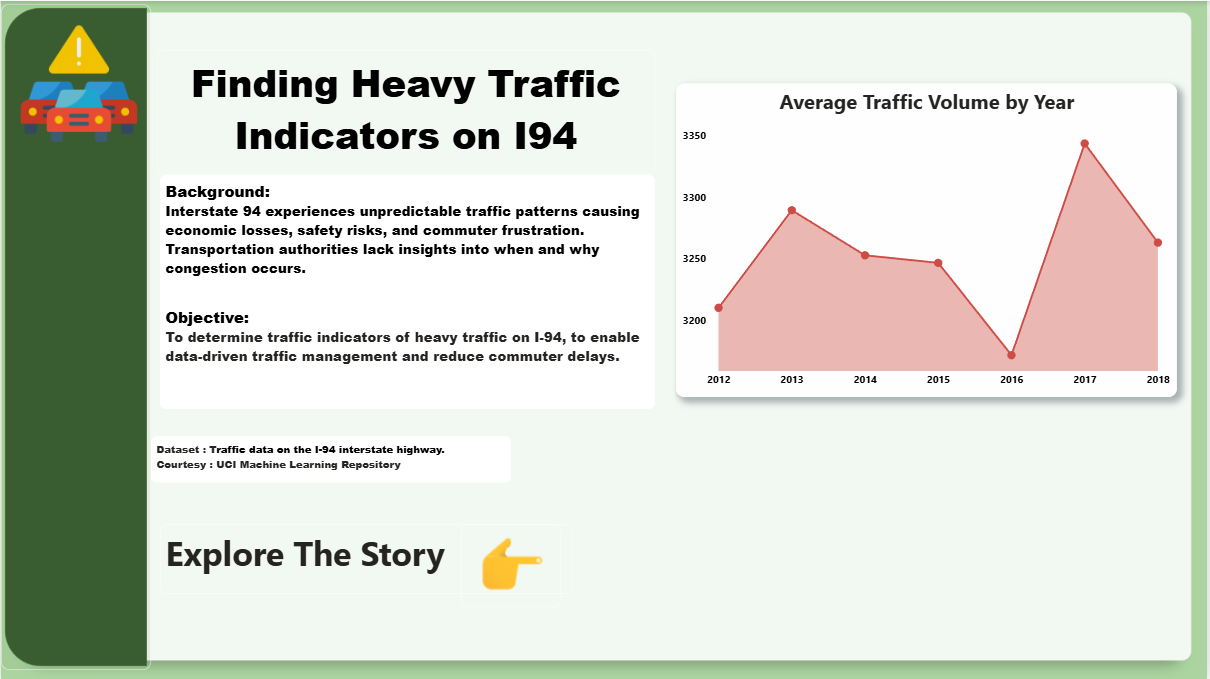

Layout of this report page (visuals, bound fields, positions):
{"tool":"powerbi","page":{"name":"Objective","canvas":[1920,1080],"ordinal":0},"visuals":[{"type":"areaChart","title":"Average Traffic Volume by Year","fields":{"Category":["Metro_Interstate_Traffic_Volume.year"],"Y":["Avg(Metro_Interstate_Traffic_Volume.traffic_volume)"]},"box":[1073.7,131.2,796.9,498.7],"z":0},{"type":"shape","box":[0,4.8,238.6,1059.3],"z":1000},{"type":"image","box":[0,33.4,248.1,195.6],"z":2000},{"type":"textbox","box":[252.9,832.7,656.1,109.8],"z":3000},{"type":"image","box":[732.5,832.7,157.5,131.2],"z":4000},{"type":"textbox","box":[248.1,78.7,792.1,198],"z":5000},{"type":"textbox","box":[252.9,276.8,787.4,372.2],"z":6000},{"type":"textbox","box":[238.6,691.9,572.6,74],"z":7000}]}

Visuals, with their boxes in screenshot pixels (x1, y1, x2, y2), scaled from the page's 1920x1080 canvas onto the 1210x679 screenshot:
"Average Traffic Volume by Year" areaChart: x1=677 y1=82 x2=1179 y2=396
shape: x1=0 y1=3 x2=150 y2=669
image: x1=0 y1=21 x2=156 y2=144
textbox: x1=159 y1=524 x2=573 y2=593
image: x1=462 y1=524 x2=561 y2=606
textbox: x1=156 y1=49 x2=656 y2=174
textbox: x1=159 y1=174 x2=656 y2=408
textbox: x1=150 y1=435 x2=511 y2=482
